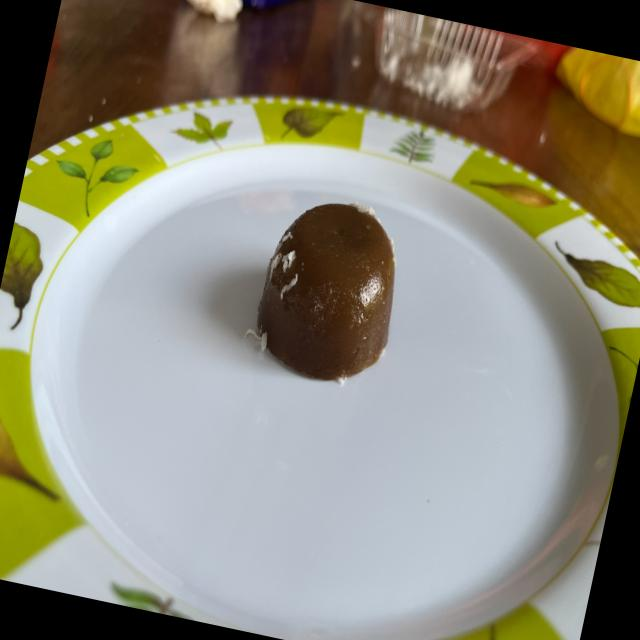Kuih lompang: (257, 202, 395, 380)
